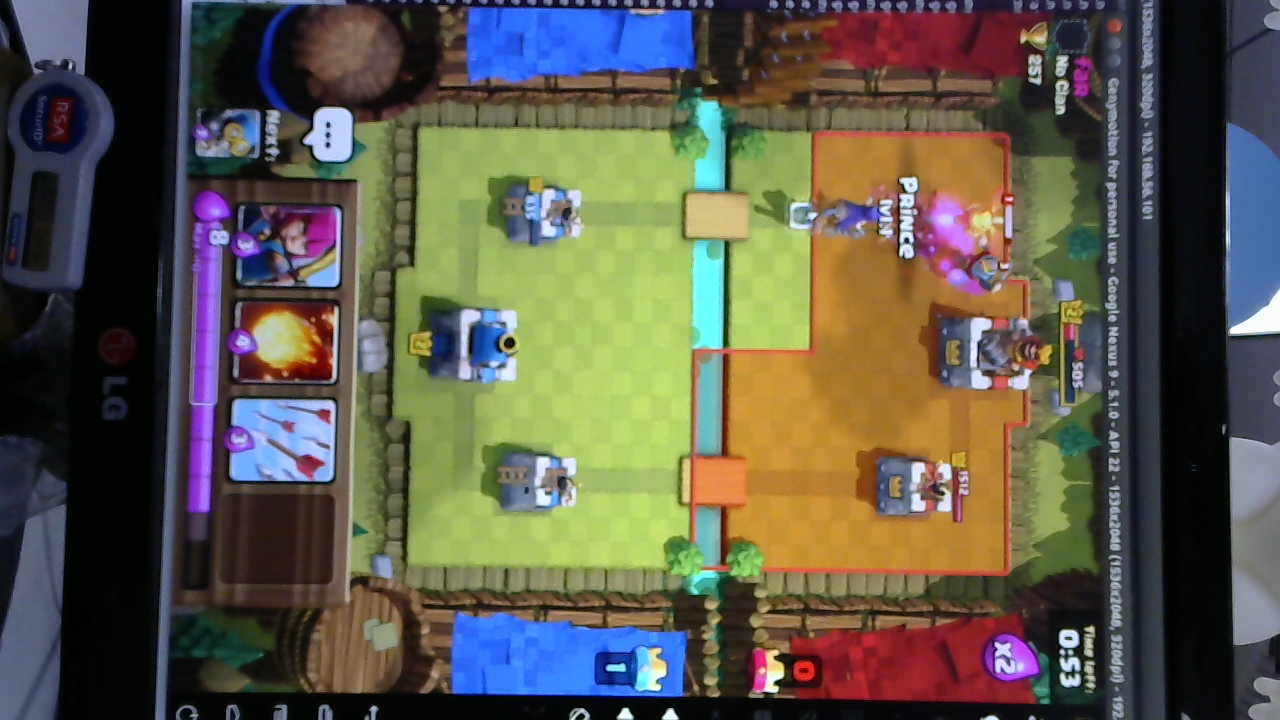arena: (495, 448, 584, 514), (503, 179, 584, 244)
dragon: (954, 195, 1001, 250)
earena: (873, 454, 952, 519)
eking: (937, 309, 1047, 396)
king: (432, 305, 524, 387)
knight: (955, 252, 1008, 292)
witch: (832, 195, 886, 237)
